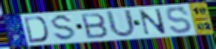B: (79, 12, 110, 40)
D: (23, 16, 50, 44)
N: (138, 8, 168, 36)
S: (165, 5, 194, 35), (51, 13, 78, 42)
U: (104, 9, 137, 39)
